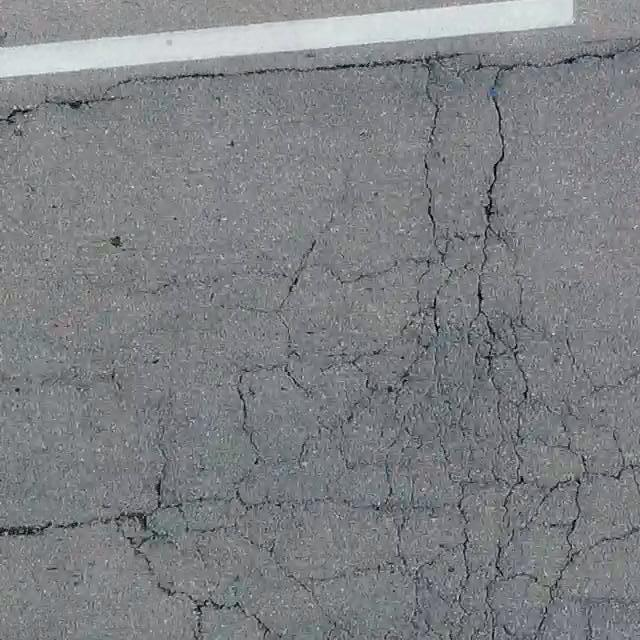GRIETA: (0, 39, 639, 125), (0, 516, 114, 537)
PIEL DE COCODRILO: (112, 72, 639, 639)
